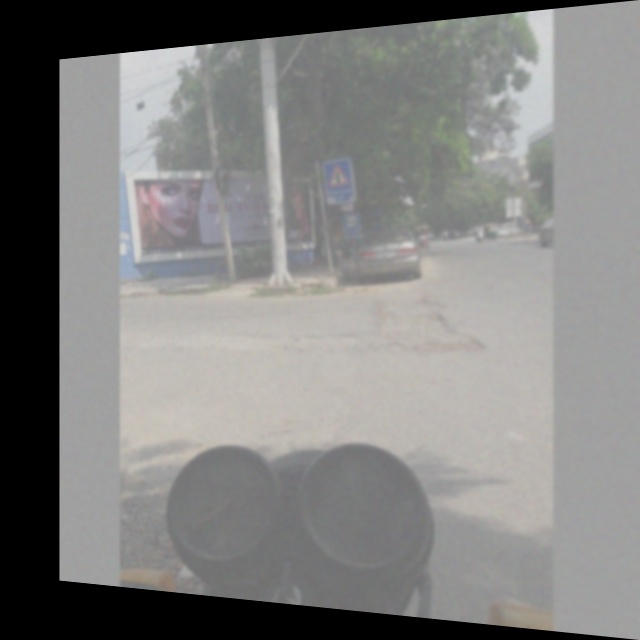Side_Road_Left: (325, 160, 354, 192)
